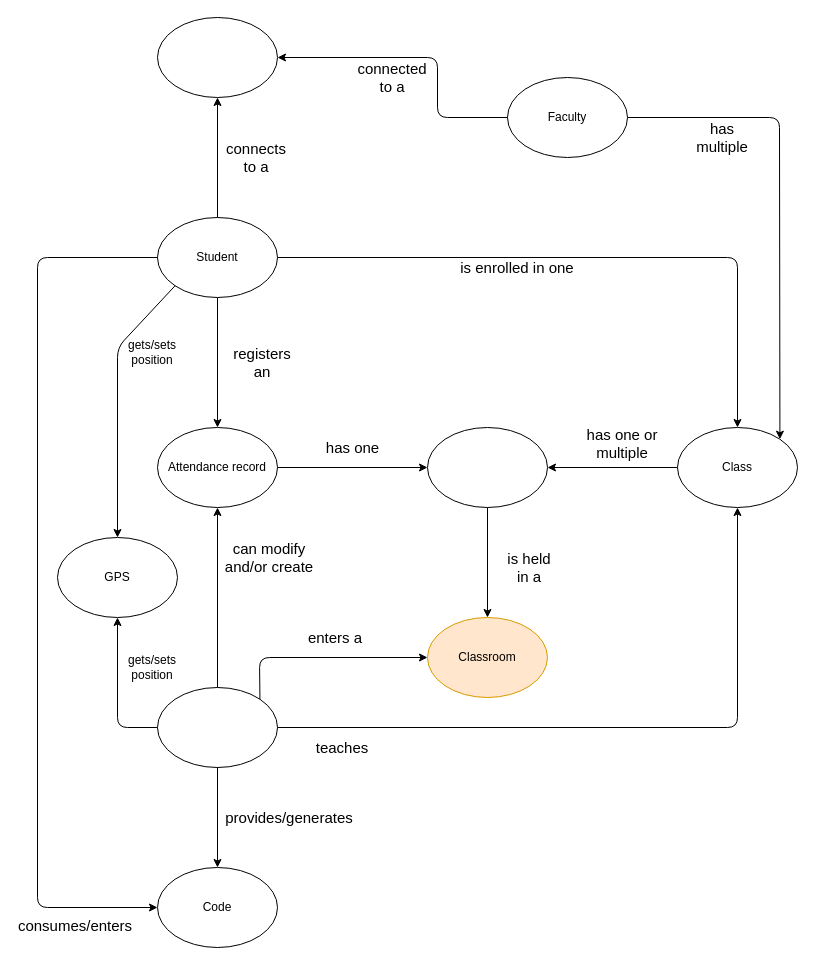
The diagram is 815 pixels wide and 965 high, and some of its shapes have lost their labels. The box of each missing label's shape, as (x1, y1, x2, y2) in pixels:
Lecture: (426, 426, 548, 508)
Network: (156, 16, 278, 98)
Teacher: (156, 686, 278, 768)
